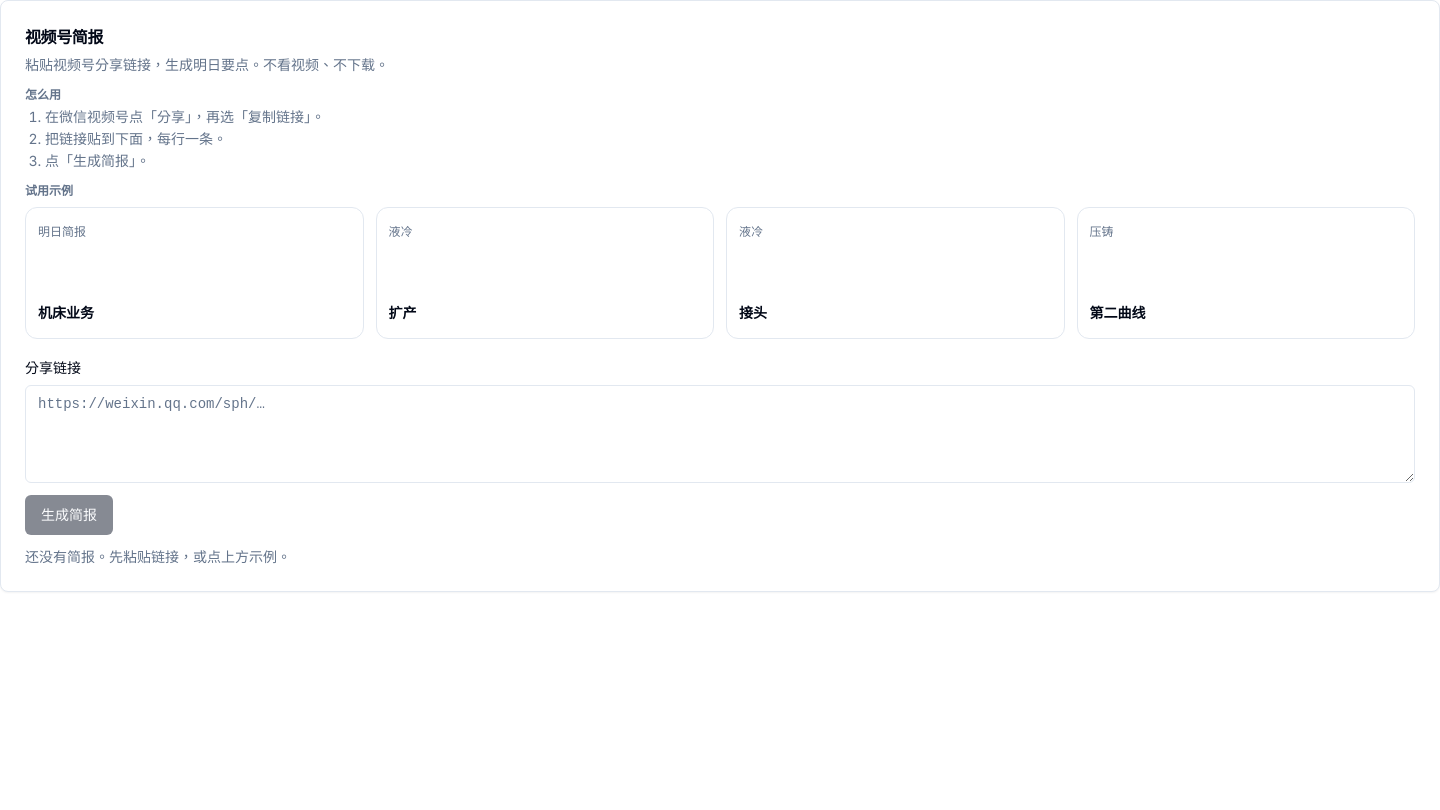
it: ChannelsBriefingPanel › clicking the primary sample card POSTs the three golden URLs and renders the fixture briefing
Click the button with test id "research-channels-briefing-sample-card-primary".
click(62, 232)  # box x1=25 y1=207 x2=364 y2=339
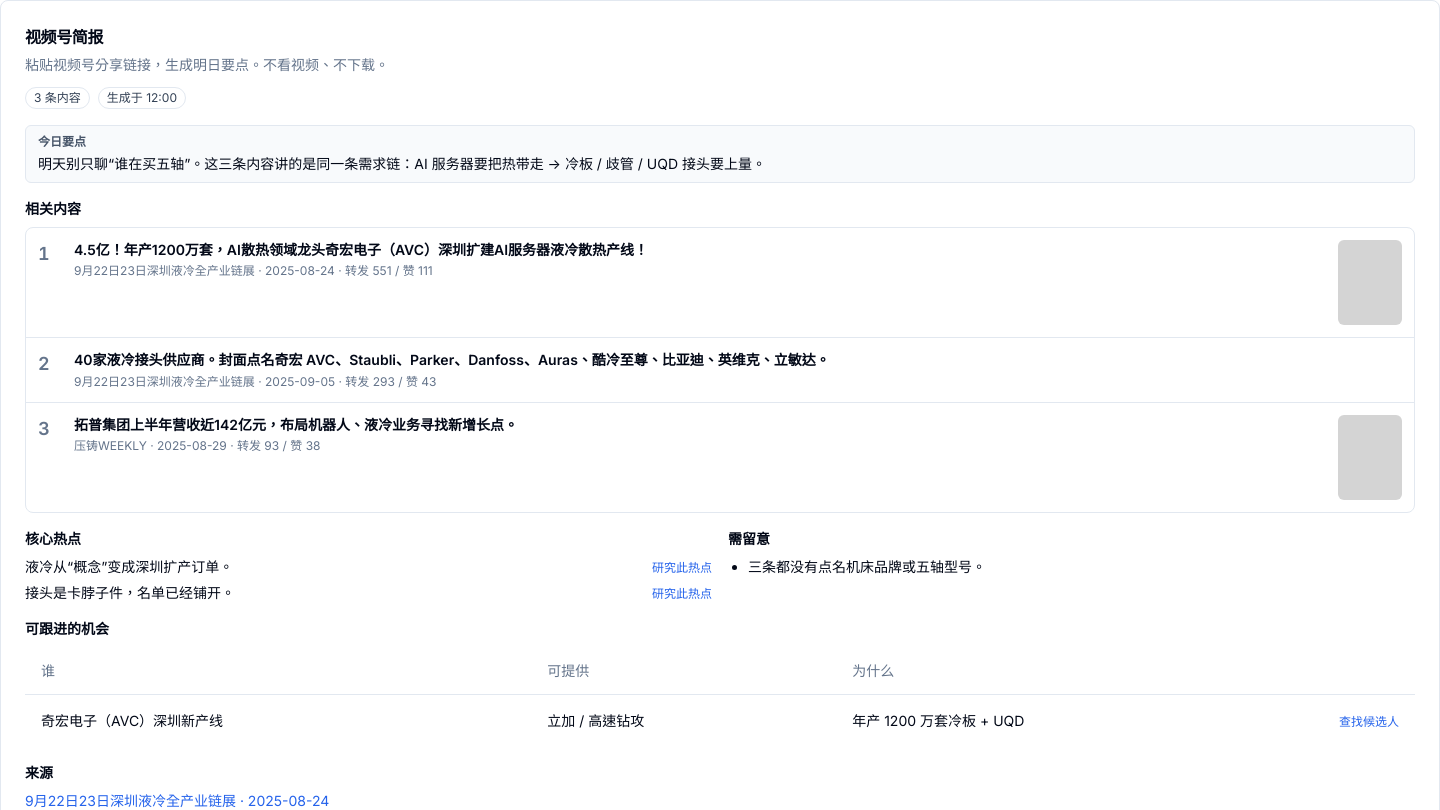
Result: the element with test id "research-channels-briefing-one-liner" shows "明天别只聊“谁在买五轴”。这三条内容讲的是同一条需求链：AI 服务器要把热带走 → 冷板 / 歧管 / UQD 接头要上量。" at x1=38 y1=155 x2=766 y2=172
Result: the number of elements with test id "research-channels-briefing-post" is 3 at x1=26 y1=228 x2=1414 y2=337; x1=38 y1=351 x2=830 y2=389; x1=26 y1=403 x2=1414 y2=512
Result: the list with test id "research-channels-briefing-weak-signals" reads "三条都没有点名机床品牌或五轴型号。" at x1=748 y1=558 x2=986 y2=575
